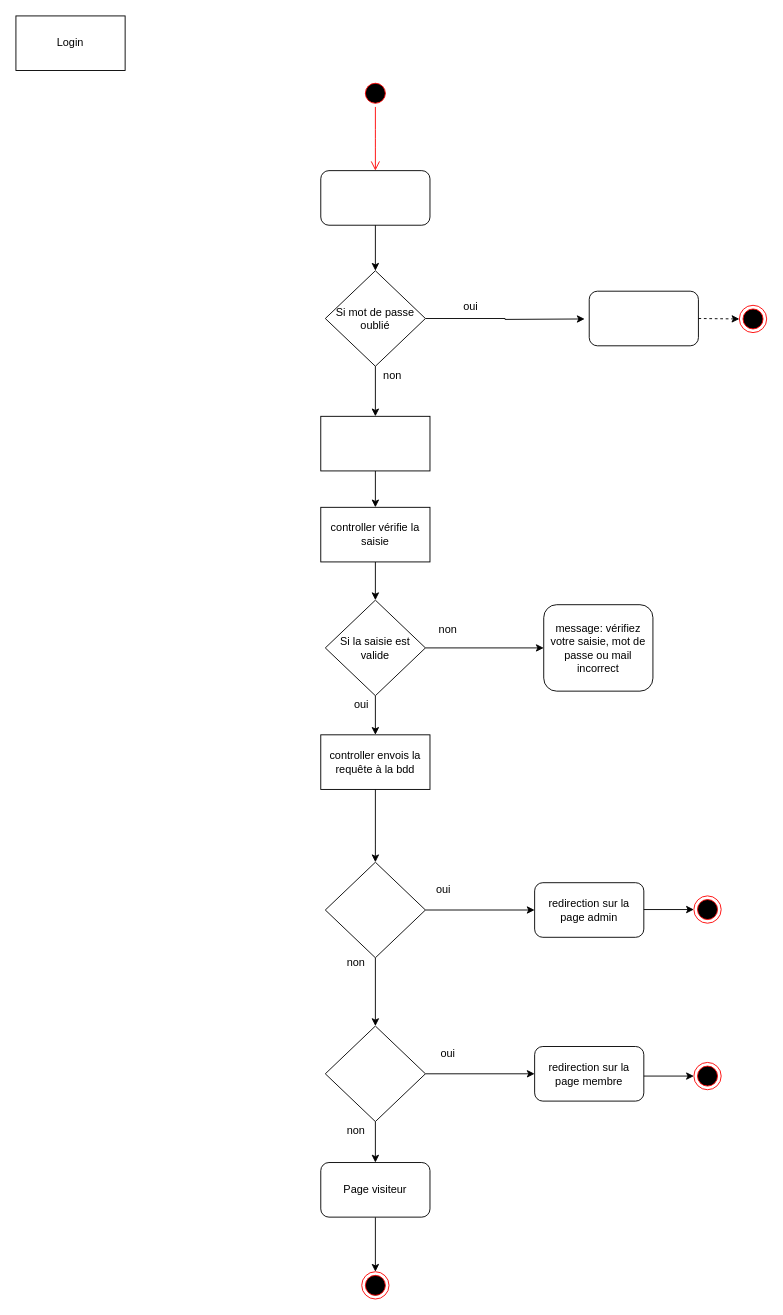
Image size: 783x1315. Some labels were removed from this diagram. Here are the shapes that lost their labels. From the top down, the box of each, then its label:
(320, 170, 430, 225): Page login login
(588, 290, 698, 346): redirection page mot de passe oublié
(320, 415, 430, 471): Rentrer un email et un mdp
(324, 861, 425, 958): Si son rôle est admin
(324, 1025, 425, 1122): Si son rôle est membre
